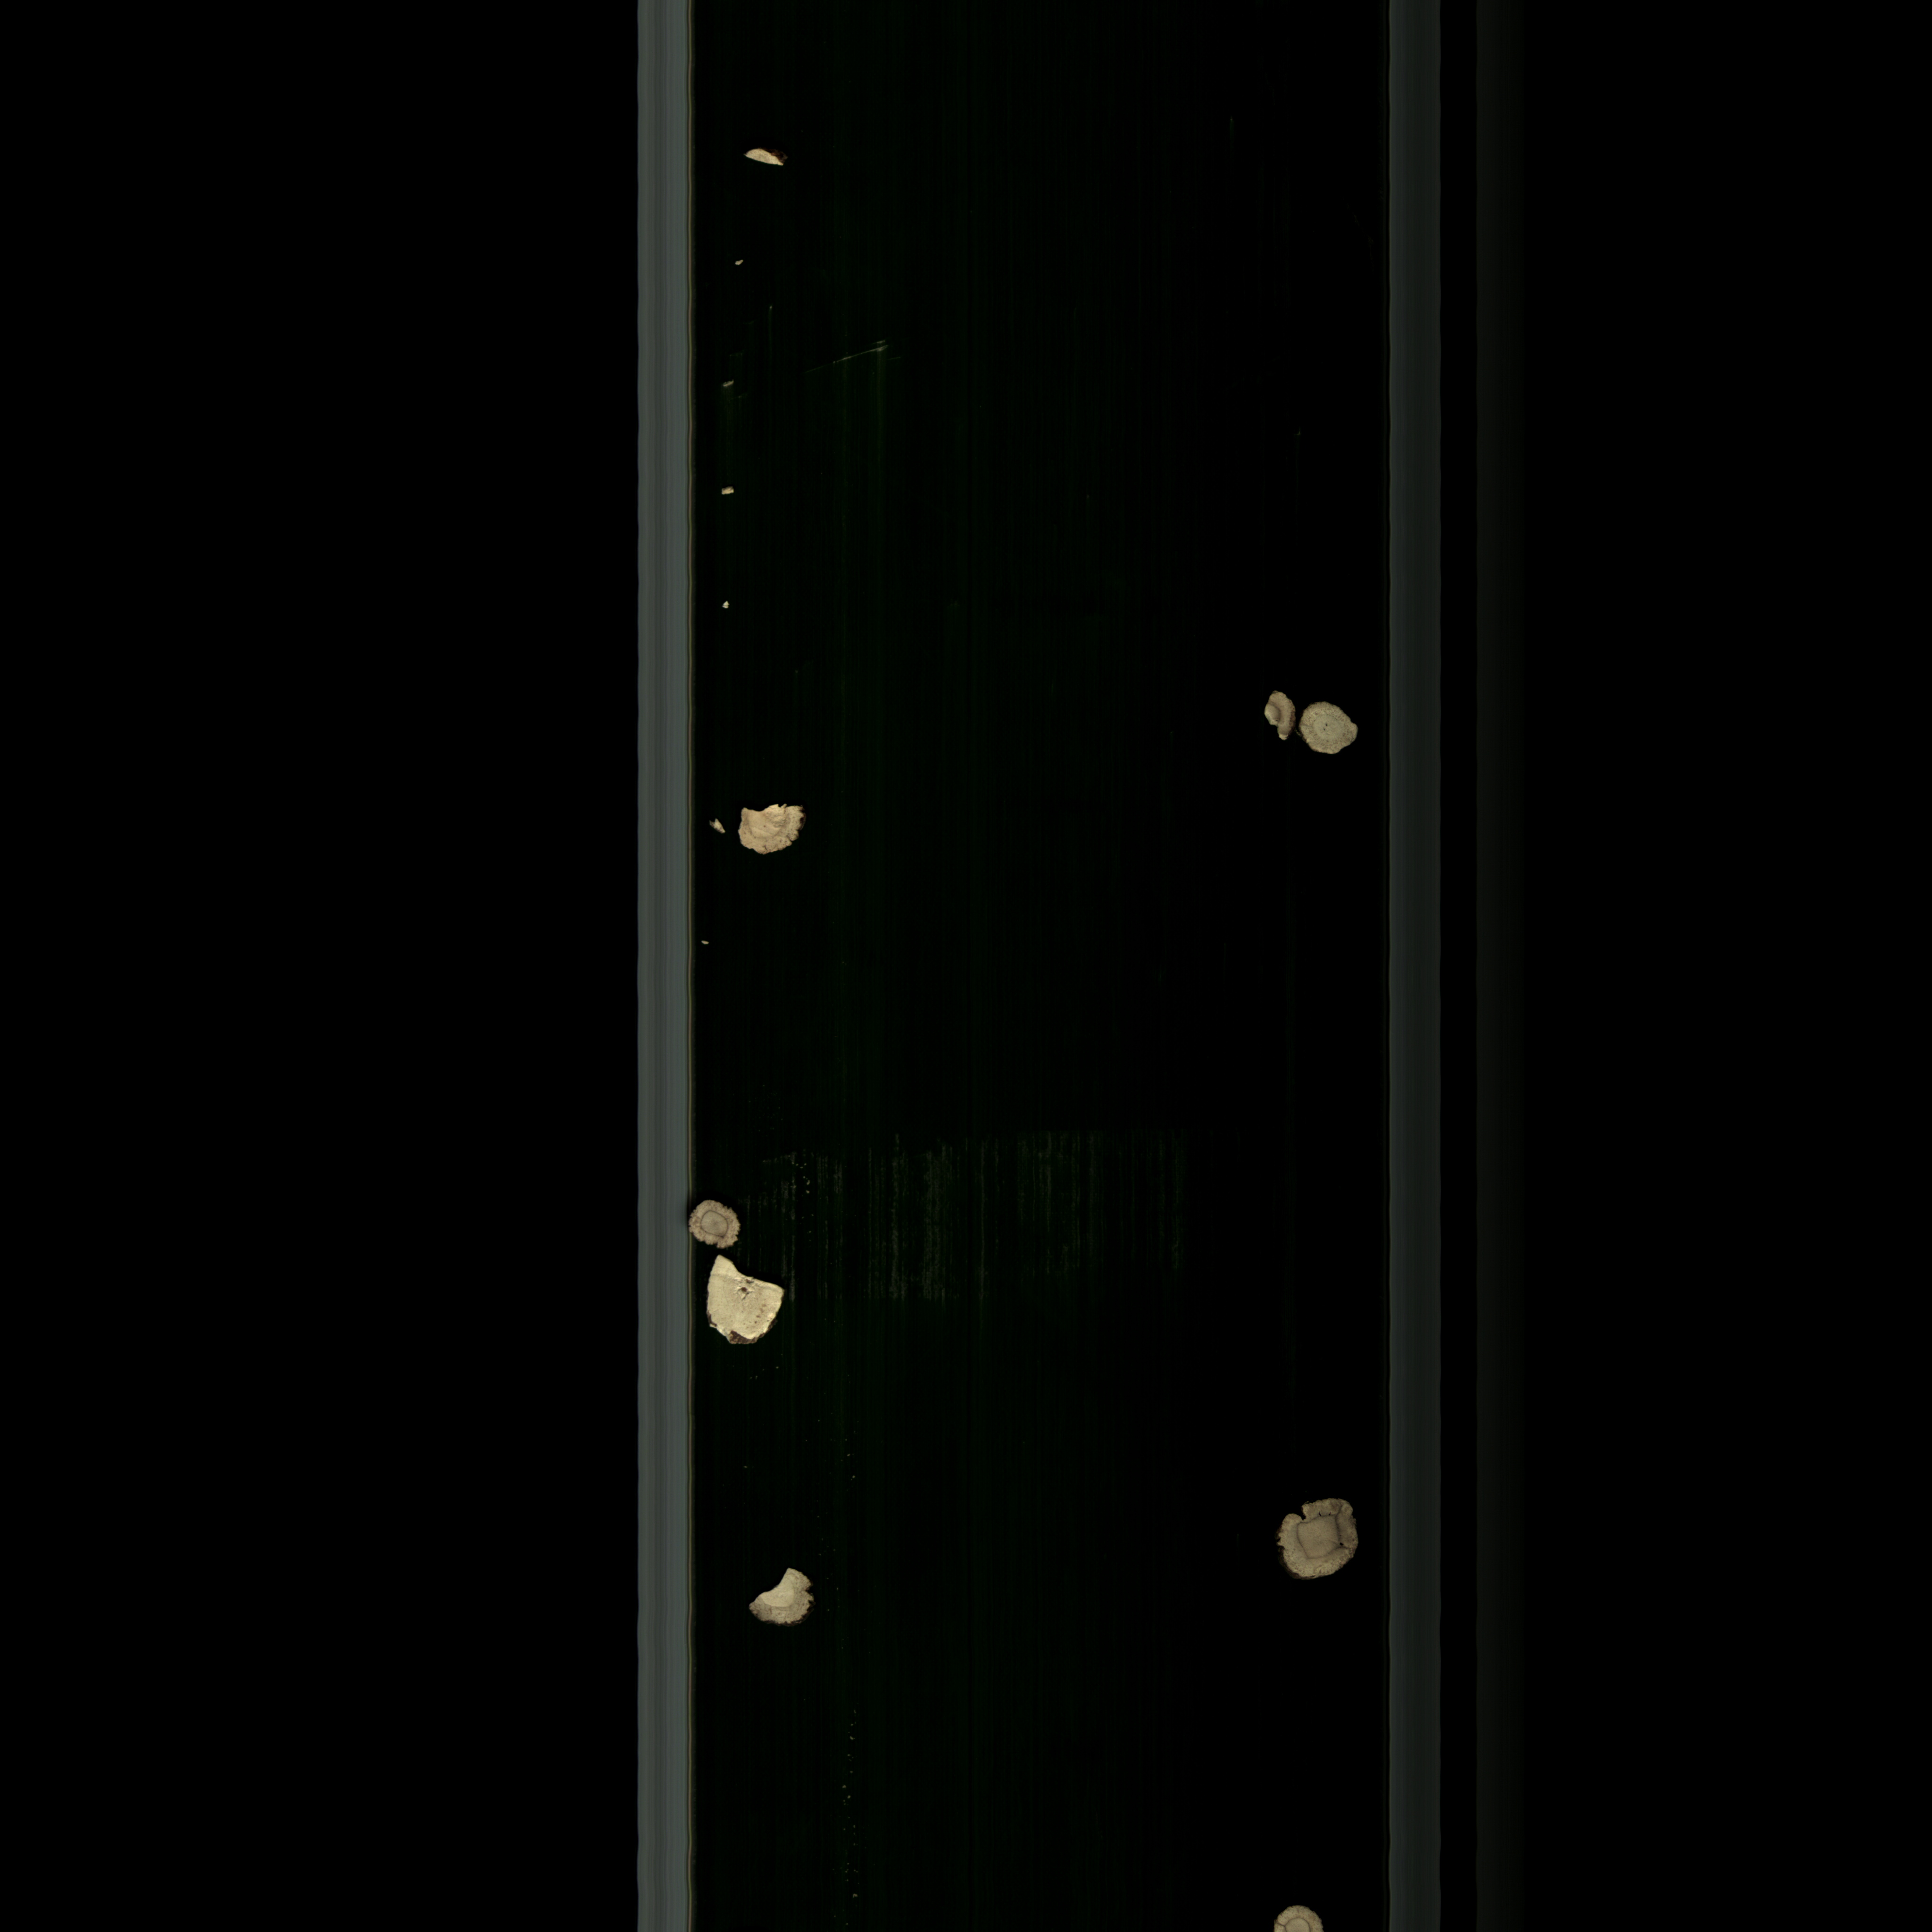debris: (702, 1247, 810, 1375), (732, 786, 828, 870), (738, 1553, 824, 1645)
dreg: (743, 140, 793, 177), (711, 368, 752, 402), (718, 586, 741, 623), (692, 922, 720, 952), (701, 816, 732, 840), (720, 474, 741, 506), (734, 248, 748, 283)
moldy: (1261, 1477, 1380, 1606), (678, 1189, 759, 1251), (1253, 671, 1299, 763)
